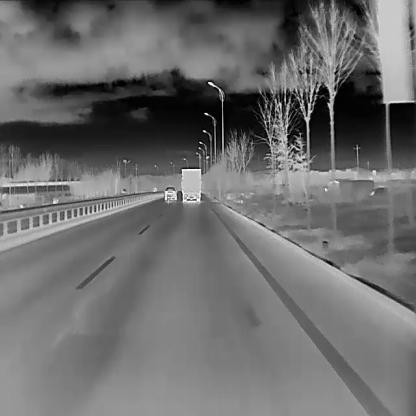car: (180, 168, 202, 202), (164, 186, 177, 200)
